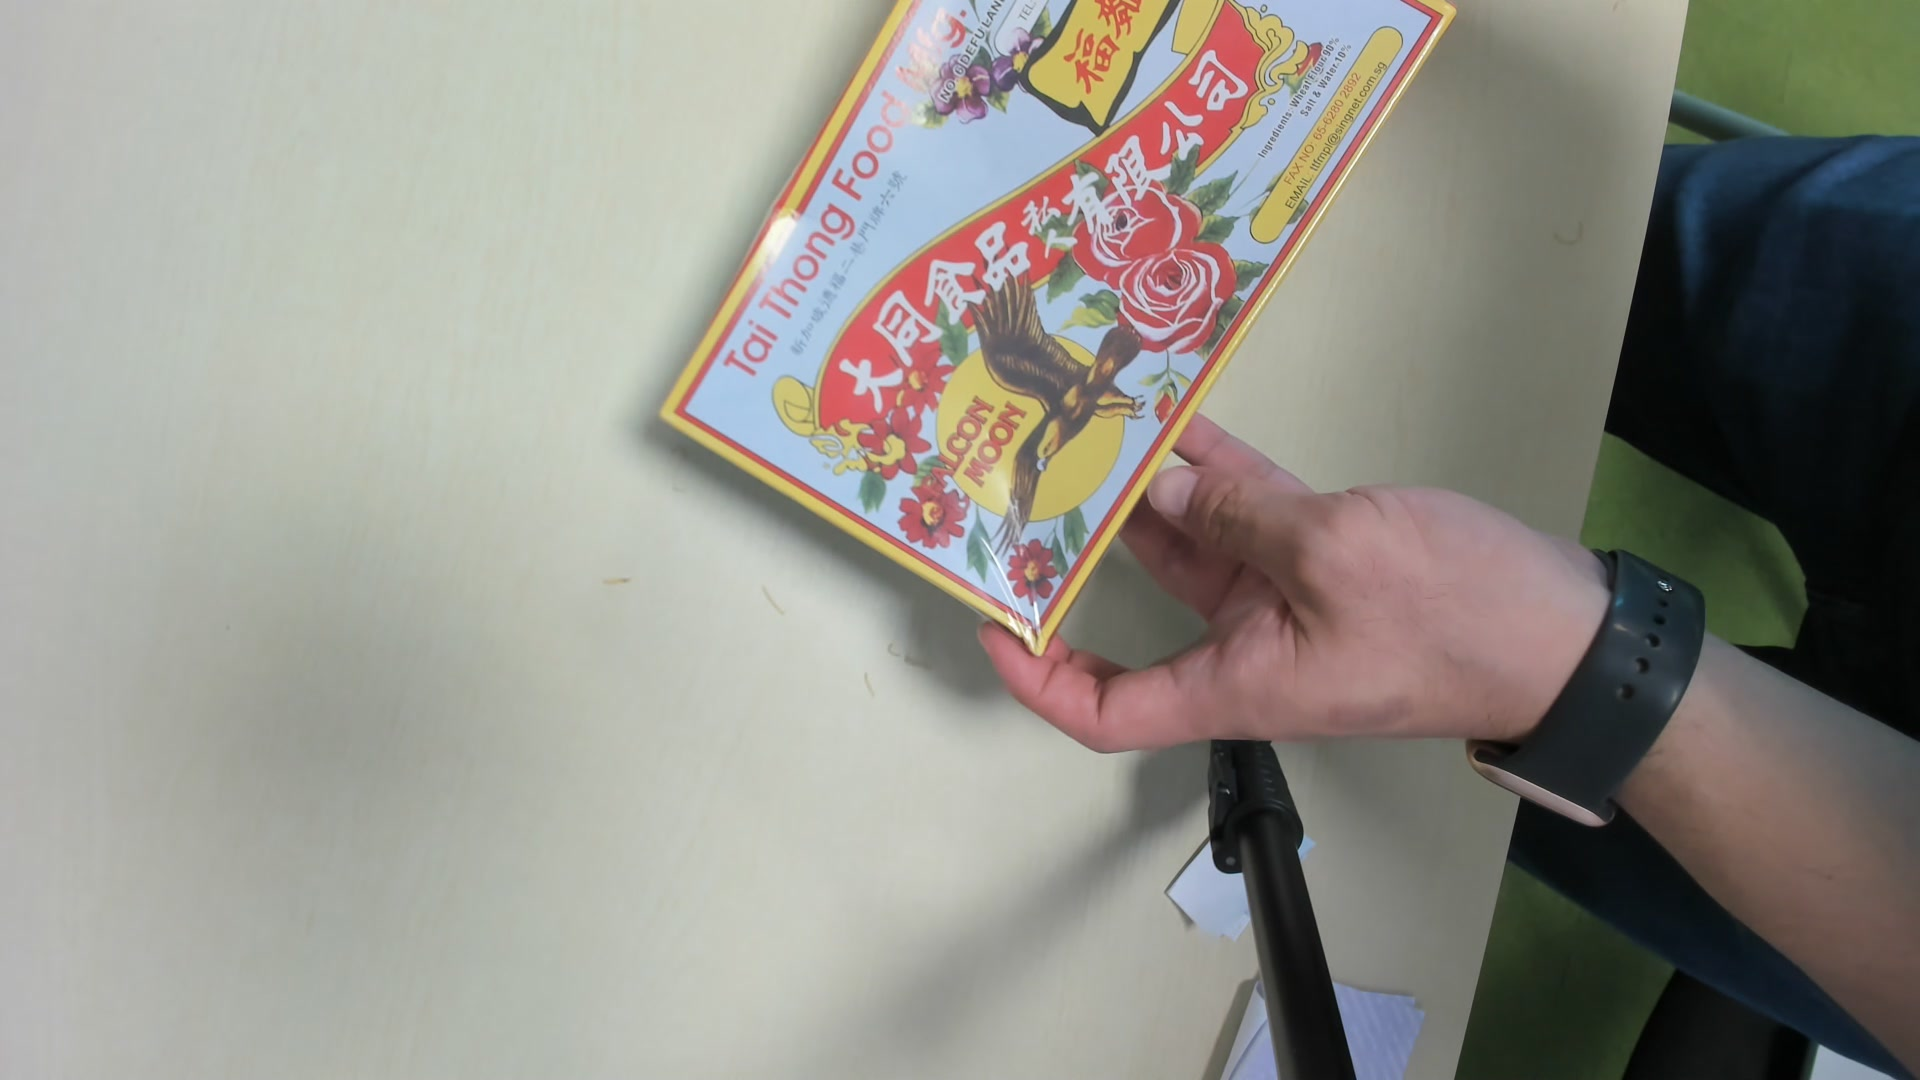BeeHoonVermicelli_0-99g_NonHalal_NonHealthy: (659, 3, 1455, 655)
